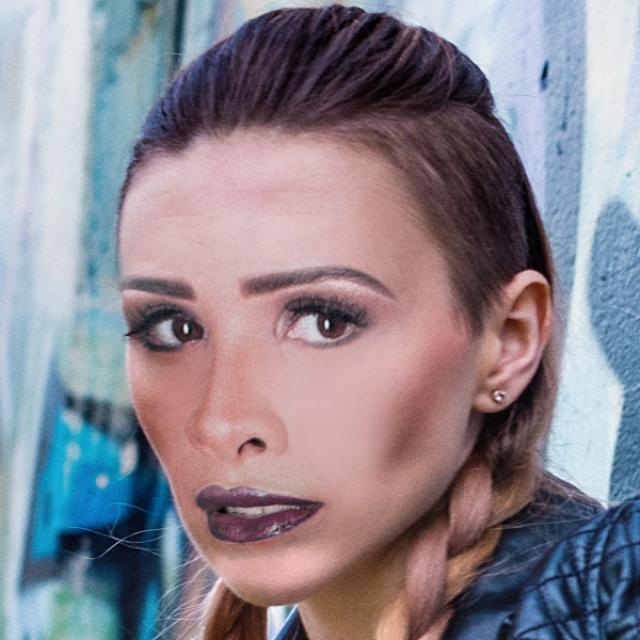face: (114, 138, 546, 602)
